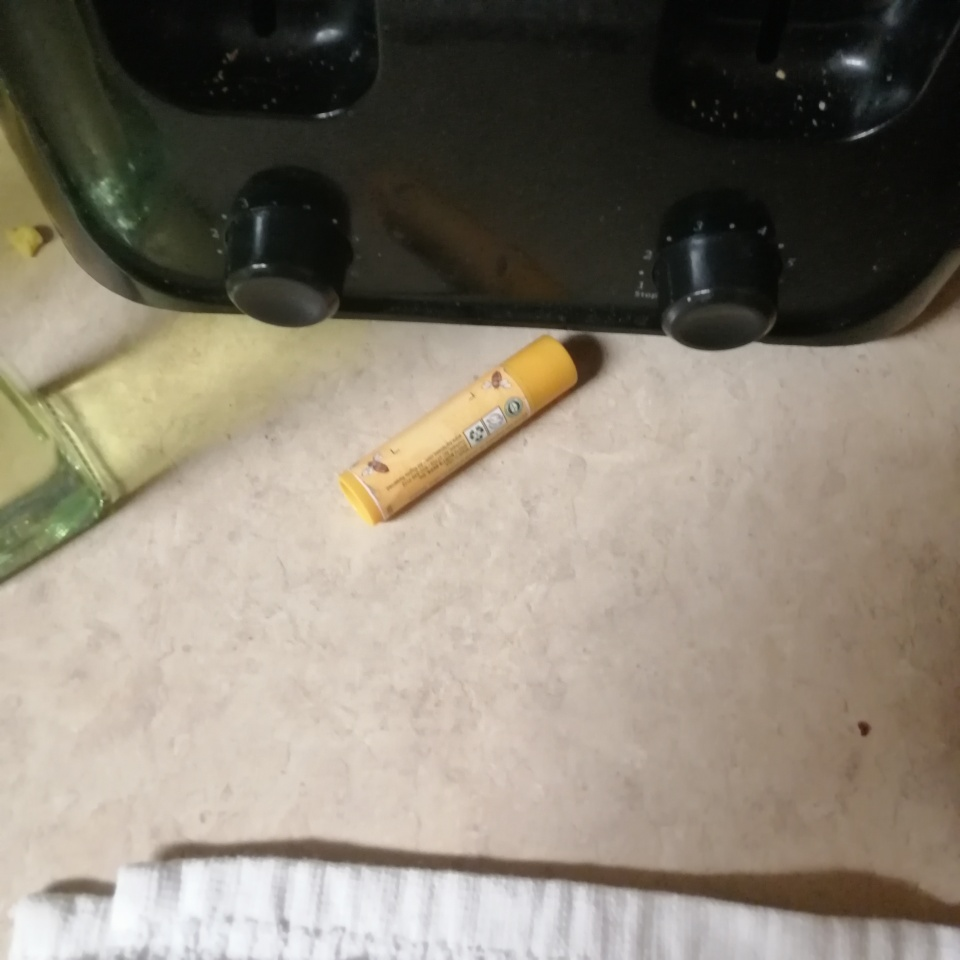chapstick: (339, 332, 582, 531)
